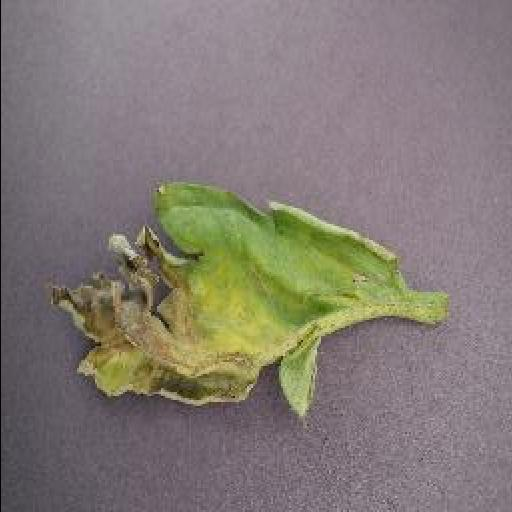disease_tomato: (42, 181, 414, 423)
